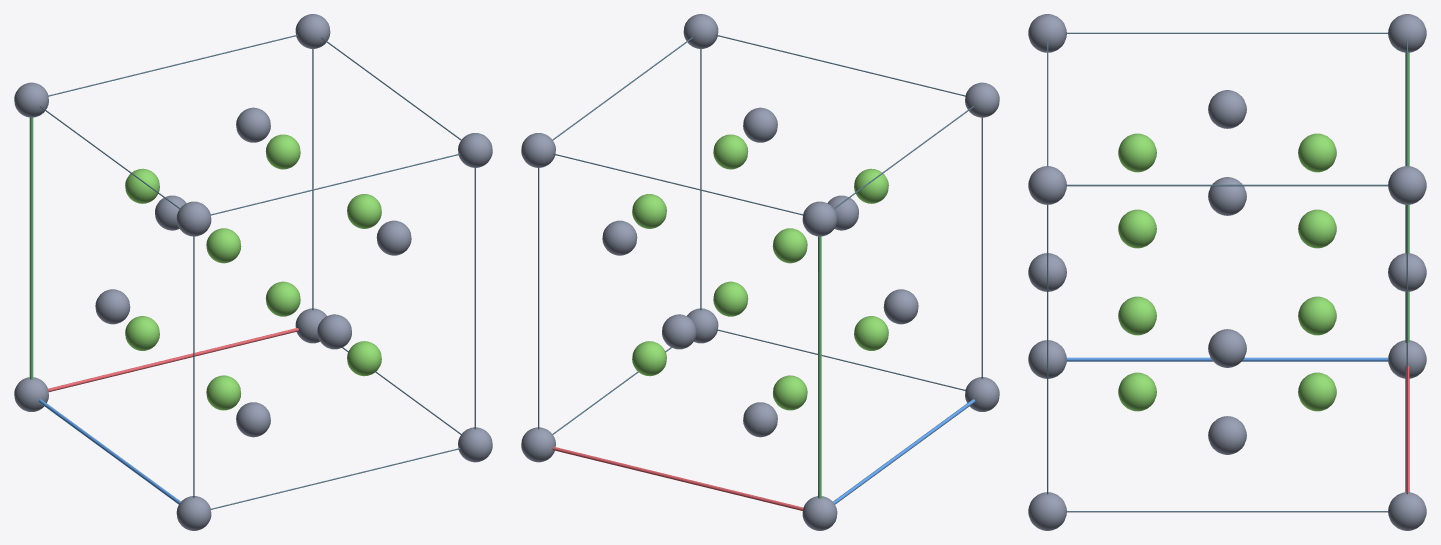
Rendered from chat-lead-fluoride-beta.glb.
3 renders of one model, left to right at view 1: azimuth 30°, elevation 25°; view 2: azimuth 150°, elevation 25°; view 3: azimuth 270°, elevation 25°, orthographic. The views are drawn at different scales.
Parts seen in each view (by area): view 1: Pb · Pb · 1 (×14), F · F · 1 (×8), Ô mạng và các trục a, b, c; view 2: Pb · Pb · 1 (×14), F · F · 1 (×8), Ô mạng và các trục a, b, c; view 3: Pb · Pb · 1 (×14), F · F · 1 (×8), Ô mạng và các trục a, b, c.
Boxes of the visible parts, left/top/right/bottom form: Pb · Pb · 1 (×14): left=14, top=14, right=492, bottom=530; F · F · 1 (×8): left=125, top=134, right=381, bottom=410; Ô mạng và các trục a, b, c: left=29, top=34, right=475, bottom=509; Pb · Pb · 1 (×14): left=521, top=14, right=999, bottom=530; F · F · 1 (×8): left=632, top=134, right=888, bottom=410; Ô mạng và các trục a, b, c: left=538, top=34, right=982, bottom=510; Pb · Pb · 1 (×14): left=1028, top=14, right=1426, bottom=530; F · F · 1 (×8): left=1118, top=133, right=1336, bottom=411; Ô mạng và các trục a, b, c: left=1047, top=32, right=1409, bottom=512.
Size of the model in its own units: 6.57 by 6.57 by 6.57.
